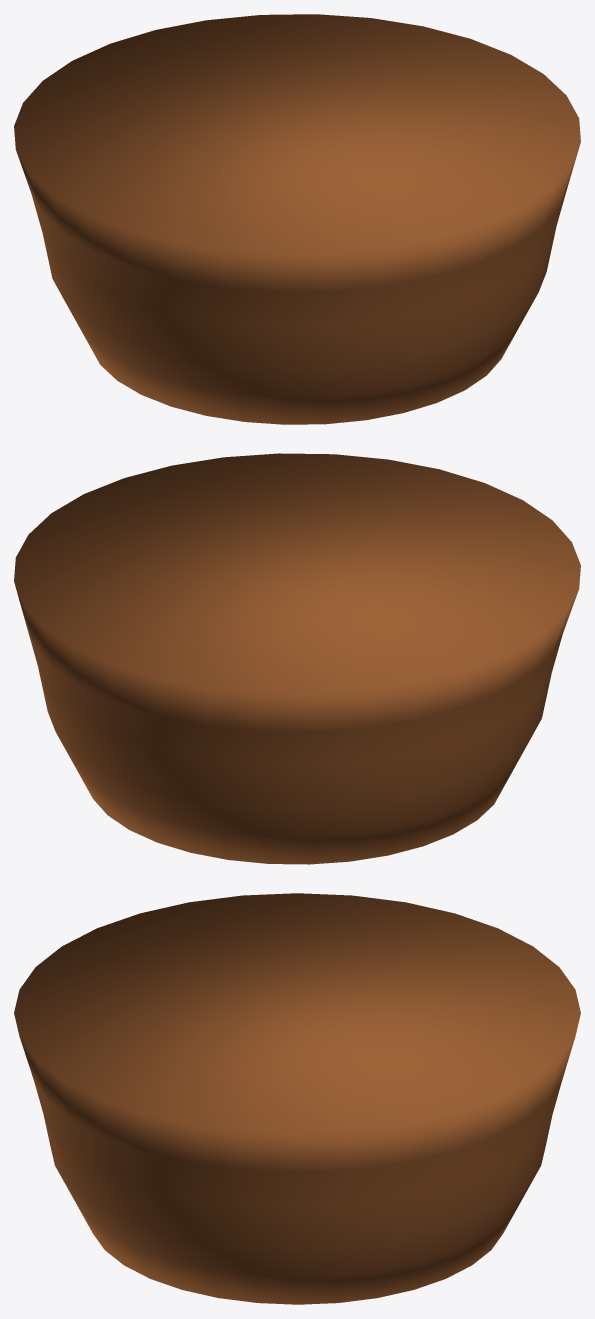
The model's file is Cork.glb.
The picture shows the model from 3 angles, top to bottom: view 1: azimuth 30°, elevation 25°; view 2: azimuth 150°, elevation 25°; view 3: azimuth 270°, elevation 25°; orthographic projection.
Visible parts, largest first — view 1: Cork; view 2: Cork; view 3: Cork.
Part boxes in pixels (bbox=[...]): Cork: bbox=[14, 14, 580, 424]; Cork: bbox=[14, 453, 580, 864]; Cork: bbox=[14, 893, 580, 1304].
Size of the model in its own units: 0.7843 by 0.3091 by 0.7843.
